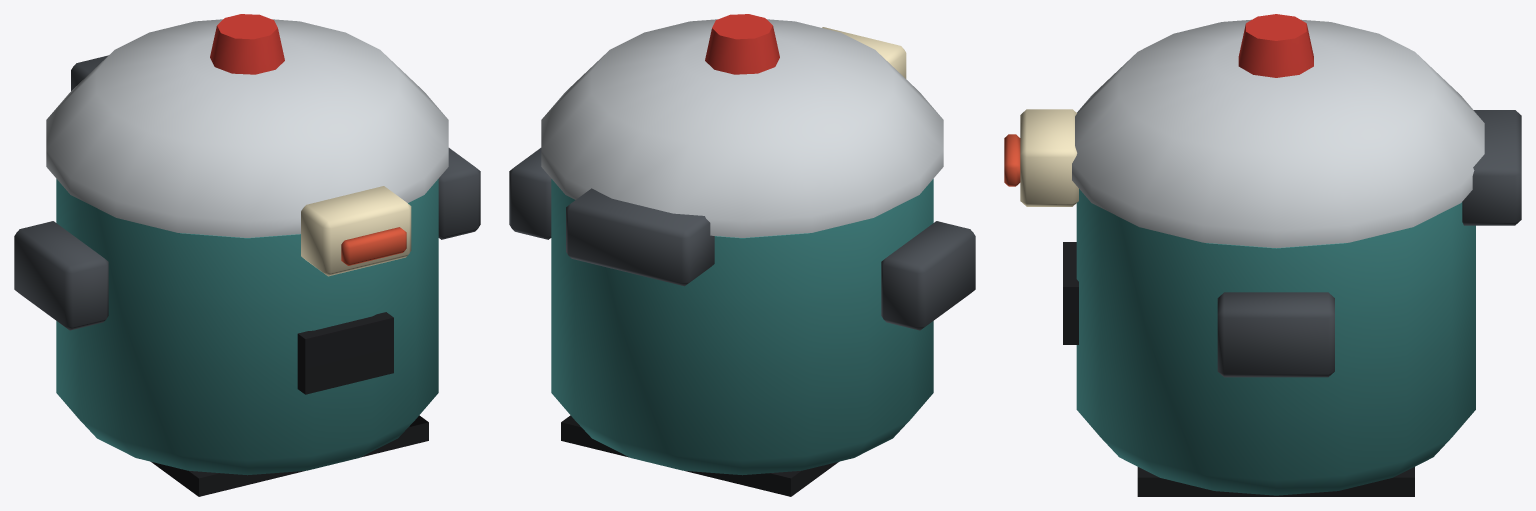
Rendered from SM_RiceCooker_Com_01.glb.
3 views of the same model, side by side, from view 1: azimuth 30°, elevation 25°; view 2: azimuth 150°, elevation 25°; view 3: azimuth 270°, elevation 25° (orthographic). The views are drawn at different scales.
Parts seen in each view (by area): view 1: SM_RiceCooker_Com_01; view 2: SM_RiceCooker_Com_01; view 3: SM_RiceCooker_Com_01.
Part boxes in pixels (x1=…): SM_RiceCooker_Com_01: x1=14, y1=14, x2=480, y2=496; SM_RiceCooker_Com_01: x1=509, y1=14, x2=975, y2=496; SM_RiceCooker_Com_01: x1=1004, y1=14, x2=1521, y2=496.
Size of the model in its own units: 0.47 by 0.425 by 0.485.
1 material, 1 textured.
